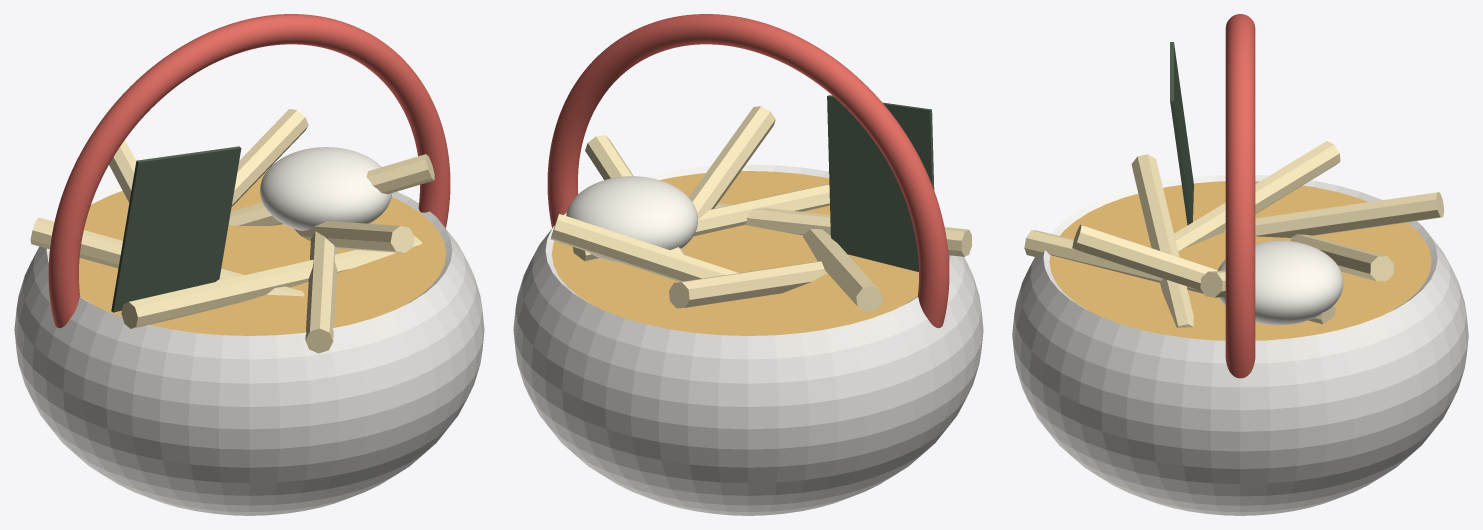
The model's file is ramen_bowl.glb.
The picture shows the model from 3 angles, left to right: view 1: azimuth 30°, elevation 25°; view 2: azimuth 150°, elevation 25°; view 3: azimuth 270°, elevation 25°; orthographic projection. The views are drawn at different scales.
Visible parts, largest first — view 1: Bowl_Body, Bowl_Rim, Broth_Surface, Nori_Sheet, Egg_Half, Noodle_5, Noodle_6, Noodle_2, Noodle_1, Noodle_0, Noodle_4, Noodle_3; view 2: Bowl_Body, Broth_Surface, Bowl_Rim, Nori_Sheet, Egg_Half, Noodle_2, Noodle_3, Noodle_0, Noodle_6, Noodle_4, Noodle_5, Noodle_1; view 3: Bowl_Body, Broth_Surface, Bowl_Rim, Egg_Half, Noodle_3, Noodle_4, Noodle_5, Noodle_0, Noodle_6, Noodle_2, Nori_Sheet, Noodle_1.
Part boxes in pixels (x1=…): Bowl_Body: x1=14, y1=165, x2=484, y2=515; Bowl_Rim: x1=48, y1=14, x2=450, y2=328; Broth_Surface: x1=79, y1=171, x2=446, y2=335; Nori_Sheet: x1=111, y1=146, x2=241, y2=312; Egg_Half: x1=260, y1=147, x2=392, y2=230; Noodle_5: x1=121, y1=236, x2=421, y2=328; Noodle_6: x1=305, y1=231, x2=338, y2=353; Noodle_2: x1=231, y1=109, x2=308, y2=206; Noodle_1: x1=228, y1=154, x2=434, y2=226; Noodle_0: x1=294, y1=221, x2=414, y2=252; Noodle_4: x1=30, y1=217, x2=304, y2=296; Noodle_3: x1=109, y1=140, x2=136, y2=202; Bowl_Body: x1=513, y1=164, x2=983, y2=515; Broth_Surface: x1=551, y1=171, x2=918, y2=335; Bowl_Rim: x1=547, y1=14, x2=949, y2=328; Nori_Sheet: x1=827, y1=95, x2=934, y2=271; Egg_Half: x1=566, y1=176, x2=697, y2=262; Noodle_2: x1=550, y1=214, x2=738, y2=281; Noodle_3: x1=669, y1=261, x2=826, y2=308; Noodle_0: x1=688, y1=106, x2=775, y2=236; Noodle_6: x1=572, y1=184, x2=829, y2=261; Noodle_4: x1=803, y1=229, x2=882, y2=312; Noodle_5: x1=714, y1=203, x2=971, y2=256; Noodle_1: x1=585, y1=135, x2=684, y2=254; Bowl_Body: x1=1012, y1=175, x2=1468, y2=515; Broth_Surface: x1=1049, y1=181, x2=1431, y2=340; Bowl_Rim: x1=1225, y1=14, x2=1255, y2=378; Egg_Half: x1=1217, y1=240, x2=1343, y2=325; Noodle_3: x1=1224, y1=192, x2=1444, y2=237; Noodle_4: x1=1151, y1=141, x2=1340, y2=250; Noodle_5: x1=1131, y1=154, x2=1193, y2=327; Noodle_0: x1=1072, y1=224, x2=1217, y2=291; Noodle_6: x1=1024, y1=230, x2=1335, y2=323; Noodle_2: x1=1290, y1=234, x2=1393, y2=281; Nori_Sheet: x1=1170, y1=42, x2=1193, y2=225; Noodle_1: x1=1200, y1=270, x2=1225, y2=297.
Size of the model in its own units: 0.118 by 0.1293 by 0.118.
